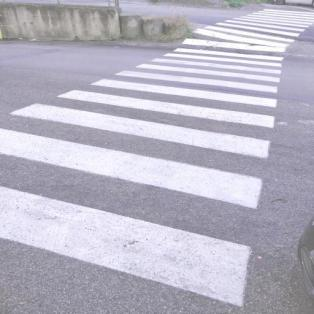Paso de Cebra: (6, 81, 283, 162), (144, 52, 288, 76)
